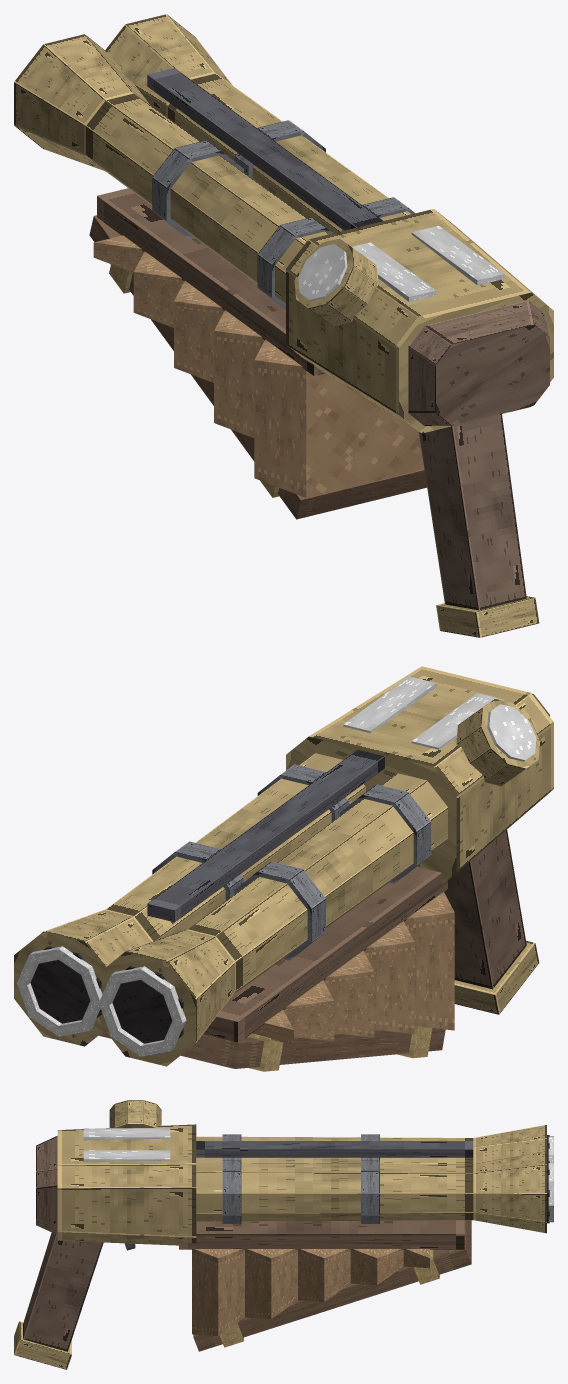
Rendered from weapon_bellows.gltf.
3 views of the same model, one above another, from view 1: azimuth 30°, elevation 25°; view 2: azimuth 150°, elevation 25°; view 3: azimuth 270°, elevation 25° (orthographic). The views are drawn at different scales.
Visible parts, largest first — view 1: body, pleats, glow, board; view 2: body, pleats, glow, board; view 3: body, pleats, board, glow.
Part boxes in pixels (x1=…): body: x1=14, y1=14, x2=553, y2=637; pleats: x1=93, y1=235, x2=424, y2=497; glow: x1=298, y1=225, x2=504, y2=301; board: x1=89, y1=215, x2=427, y2=519; body: x1=14, y1=666, x2=553, y2=1066; pleats: x1=252, y1=892, x2=454, y2=1044; glow: x1=17, y1=676, x2=536, y2=1056; board: x1=99, y1=1026, x2=445, y2=1071; body: x1=14, y1=1100, x2=549, y2=1369; pleats: x1=192, y1=1249, x2=429, y2=1335; board: x1=193, y1=1220, x2=471, y2=1351; glow: x1=83, y1=1100, x2=553, y2=1222.
Bounding box in the file's own units: 0.1892 × 0.3021 × 0.6235.
4 materials, 4 textured.
